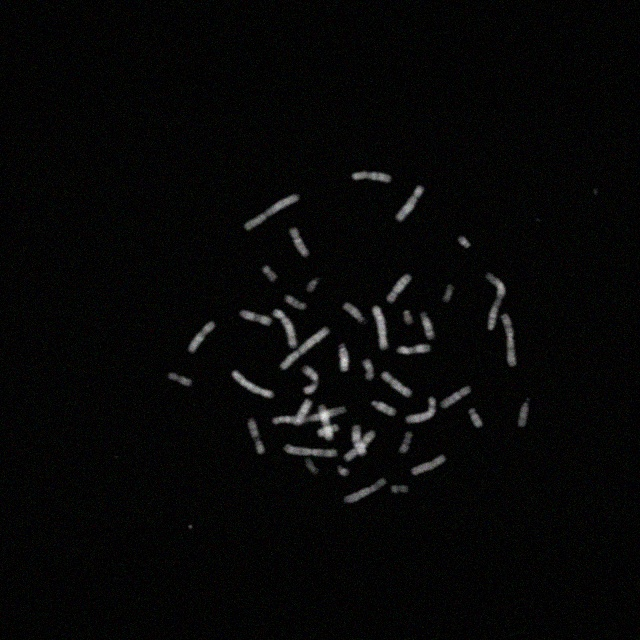chromosome: (281, 327, 329, 369), (244, 194, 298, 230), (232, 369, 274, 398), (273, 408, 347, 424), (485, 273, 505, 331), (344, 478, 386, 502), (344, 431, 376, 461), (396, 186, 424, 220), (273, 310, 297, 348), (187, 321, 215, 353), (501, 313, 517, 367), (406, 396, 434, 424), (381, 371, 411, 397), (442, 385, 471, 409), (412, 455, 446, 475), (372, 307, 388, 349), (387, 274, 411, 302), (284, 444, 338, 456), (248, 418, 264, 454), (290, 228, 310, 256), (238, 309, 272, 325), (318, 406, 334, 440), (352, 423, 366, 459), (294, 399, 312, 425), (302, 366, 318, 394), (343, 302, 365, 322), (516, 396, 530, 426), (372, 400, 396, 416), (354, 172, 391, 182), (398, 344, 430, 354), (422, 312, 434, 338), (284, 294, 306, 308), (339, 342, 349, 371), (168, 372, 192, 384), (441, 284, 455, 304), (400, 432, 412, 454), (470, 408, 482, 428), (318, 424, 338, 436), (263, 266, 277, 282), (362, 360, 373, 380), (307, 278, 321, 292), (306, 458, 318, 474), (458, 236, 470, 248), (403, 310, 412, 326), (392, 486, 408, 494), (336, 466, 348, 476)
